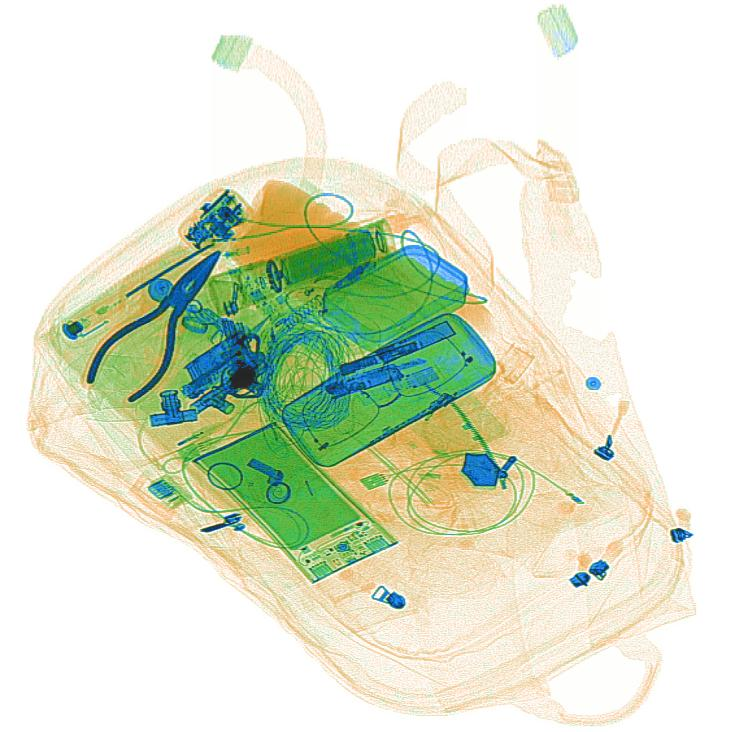USBFlashDisk: (360, 365, 440, 407)
battery: (281, 231, 379, 287)
